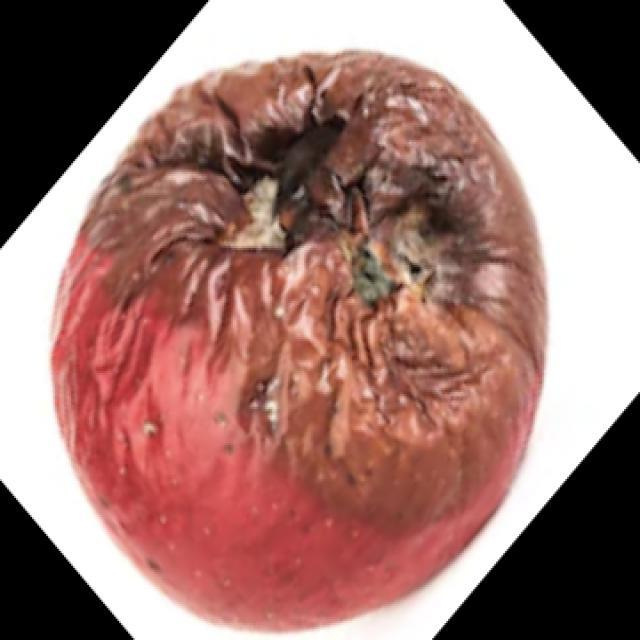Rotten: (37, 37, 535, 620)
